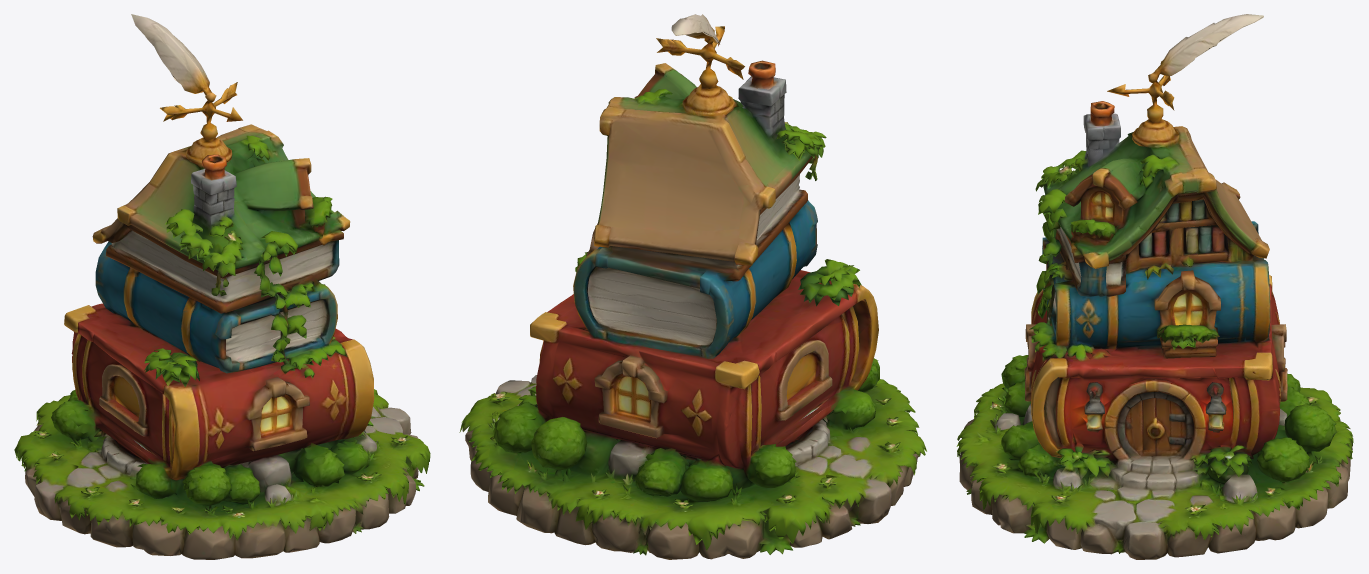
Rendered from english.glb.
3 renders of one model, left to right at view 1: azimuth 30°, elevation 25°; view 2: azimuth 150°, elevation 25°; view 3: azimuth 270°, elevation 25°, orthographic. The views are drawn at different scales.
Visible parts, largest first — view 1: tripo_node_2dbae3e3-8605-40f1-a74b-b30c8708ffb9; view 2: tripo_node_2dbae3e3-8605-40f1-a74b-b30c8708ffb9; view 3: tripo_node_2dbae3e3-8605-40f1-a74b-b30c8708ffb9.
Boxes of the visible parts, bbox=[...] form: tripo_node_2dbae3e3-8605-40f1-a74b-b30c8708ffb9: bbox=[14, 14, 430, 559]; tripo_node_2dbae3e3-8605-40f1-a74b-b30c8708ffb9: bbox=[459, 14, 926, 559]; tripo_node_2dbae3e3-8605-40f1-a74b-b30c8708ffb9: bbox=[956, 14, 1353, 559].
Bounding box in the file's own units: 0.8339 × 0.9803 × 0.7998.
1 material, 1 textured.
